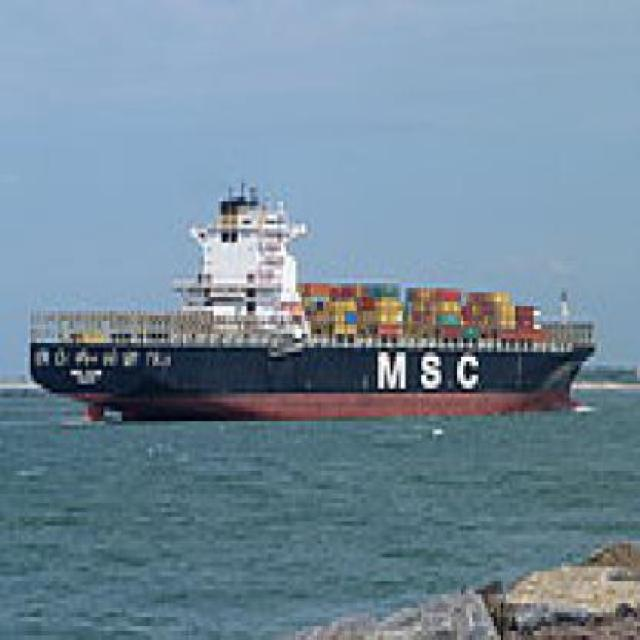container: (22, 174, 605, 426)
